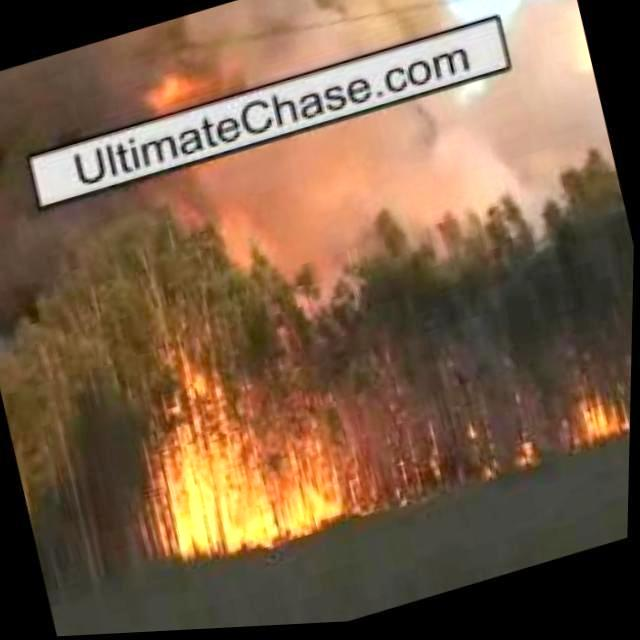fire: (120, 319, 364, 576), (365, 374, 503, 518), (565, 399, 631, 453), (140, 72, 204, 116), (515, 447, 549, 475)
